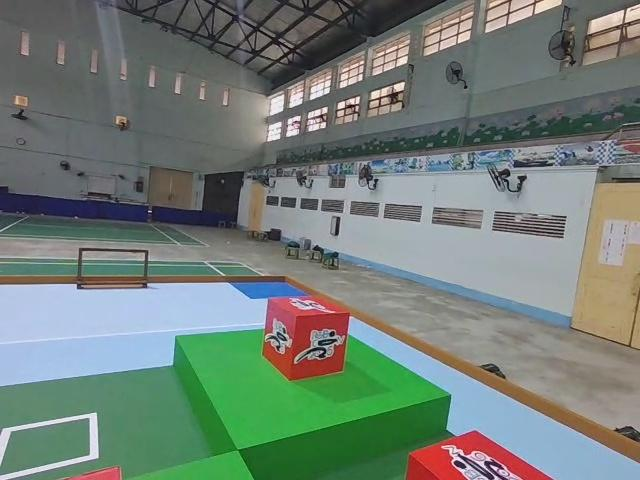R1: (261, 293, 352, 383), (405, 428, 557, 480)
